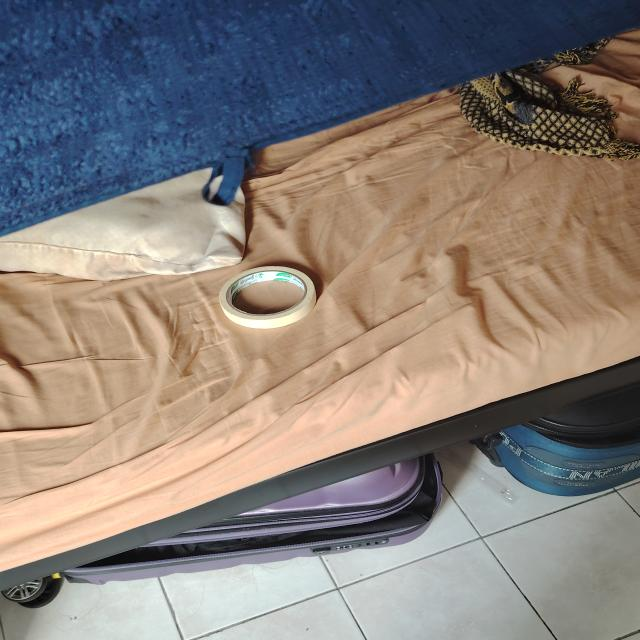tape: (219, 266, 316, 328)
